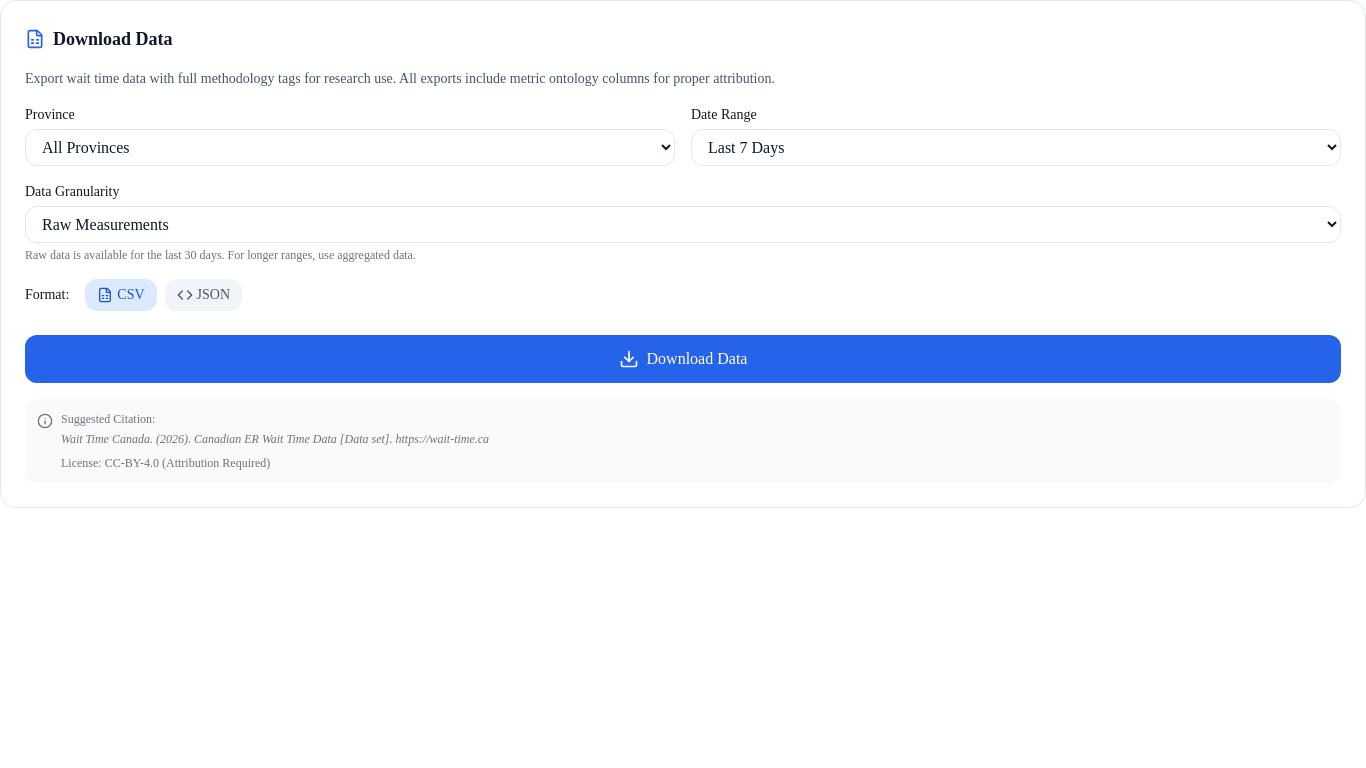
DataExport › raw data warning › shows warning when raw data selected with >30 day range
This screenshot has width=1366, height=768.
Step 1. Select "Last 90 Days" in the dropdown labelled "Date Range" → (1016, 148), box [691,129,1341,166]
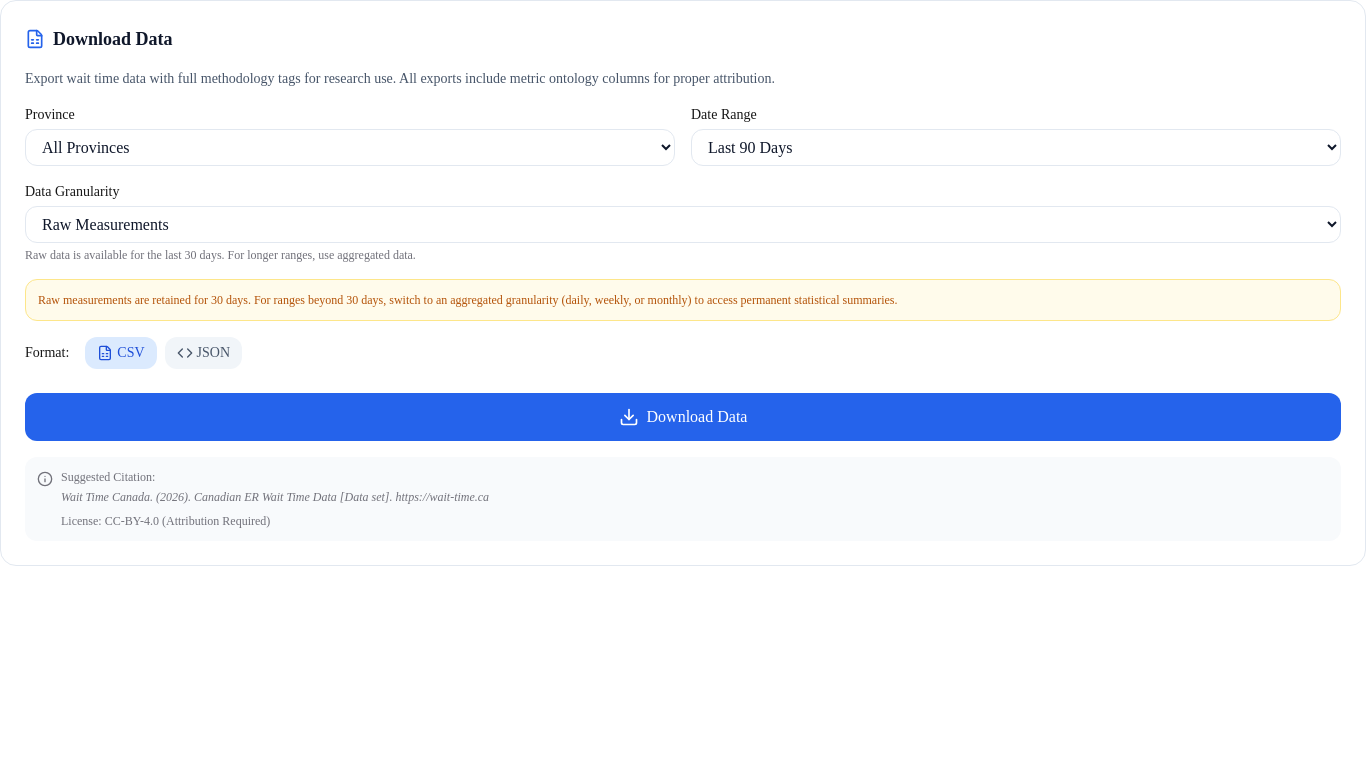
Result: the text "Raw measurements are retained for 30 days" is shown at [38,293,898,307]
